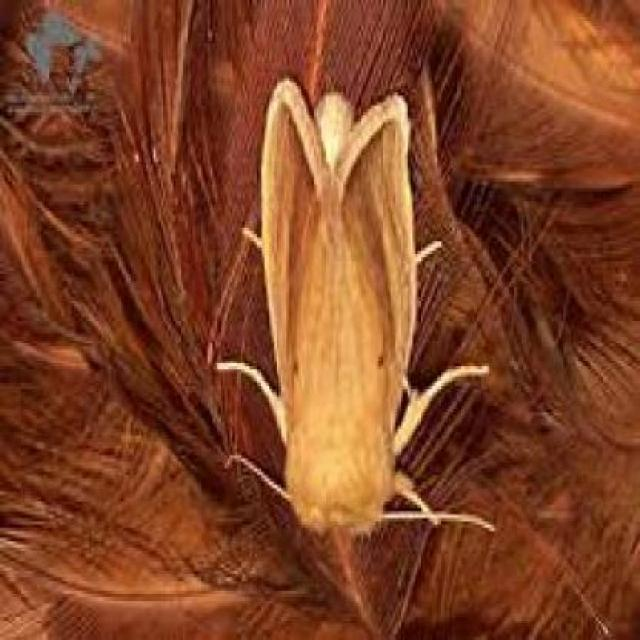stem-borer: (251, 74, 418, 551)
